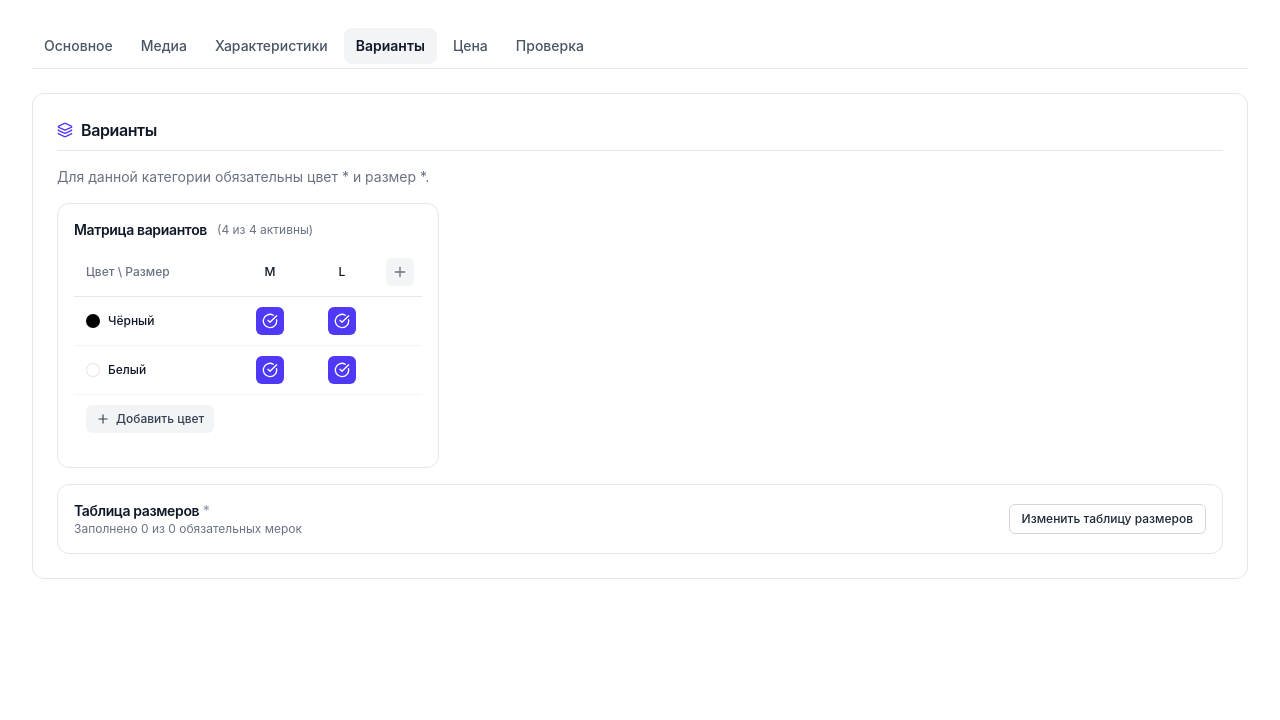
Test: ProductStudioFormWorkspace - Variant Editing Parity (PS.R4B3.1C4C3B3A) › 6. PS.R4B3.1C4C3B3B-R3 — Final Variant Matrix UX (Form) › 6. size + opens existing size editor
What coordinates should you click on to do the following:
click the button with test id "matrix-add-size-btn"
I would click on:
 (400, 272)
Its box is [386,258,414,286].
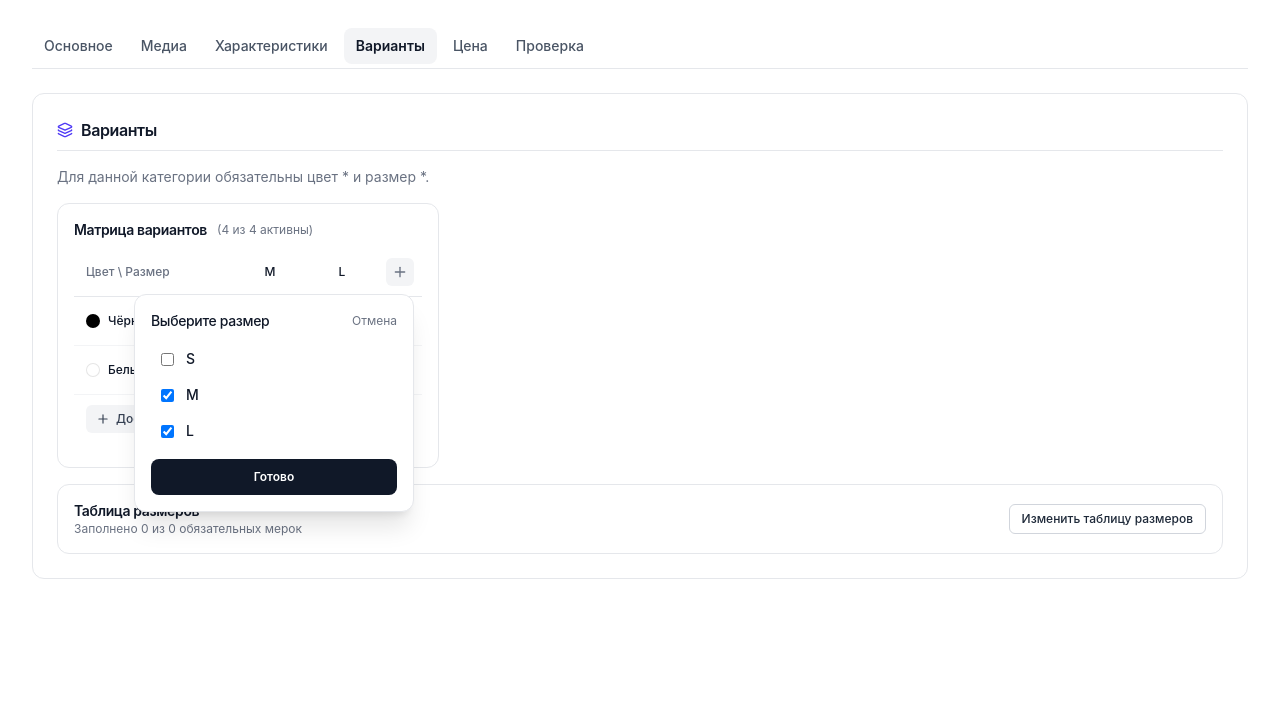
Expected: the element with test id "form-size-popover" is shown, [134,294,414,512]
Expected: the button with test id "form-size-popover-apply-btn" is shown, [151,459,397,495]
